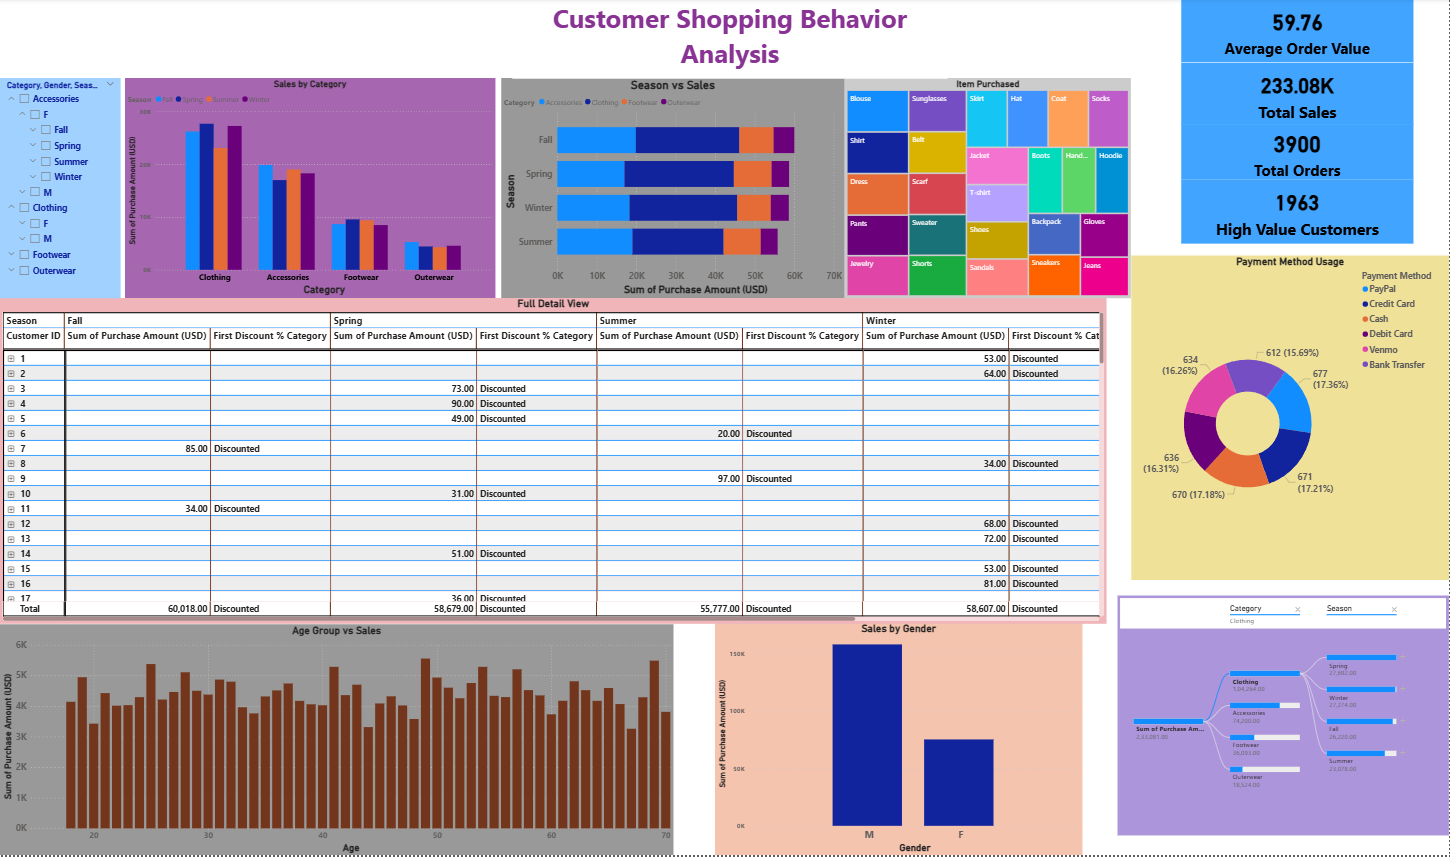

Layout of this report page (visuals, bound fields, positions):
{"tool":"powerbi","page":{"name":"Page 1","canvas":[2700,1600],"ordinal":0},"visuals":[{"type":"card","fields":{"Values":["shopping_behavior_updated.Total Sales"]},"box":[2202.5,120,432.5,115],"z":0},{"type":"card","fields":{"Values":["shopping_behavior_updated.Total Orders"]},"box":[2202.5,235,432.5,102.5],"z":1000},{"type":"card","fields":{"Values":["shopping_behavior_updated.Average Order Value"]},"box":[2202.5,0,432.5,120],"z":2000},{"type":"card","fields":{"Values":["shopping_behavior_updated.High Value Customers"]},"box":[2202.5,337.5,432.5,120],"z":3000},{"type":"clusteredColumnChart","title":"Sales by Category","fields":{"Series":["shopping_behavior_updated.Season"],"Category":["shopping_behavior_updated.Category"],"Y":["Sum(shopping_behavior_updated.Purchase Amount (USD))"]},"box":[232.5,150,690,410],"z":4000},{"type":"treemap","title":"Item Purchased","fields":{"Values":["Sum(shopping_behavior_updated.Purchase Amount (USD))"],"Group":["shopping_behavior_updated.Item Purchased"]},"box":[1575,150,532.5,410],"z":5000},{"type":"clusteredColumnChart","title":"Sales by Gender","fields":{"Category":["shopping_behavior_updated.Gender"],"Y":["Sum(shopping_behavior_updated.Purchase Amount (USD))"]},"box":[1332.5,1165,685,435],"z":6000},{"type":"clusteredColumnChart","title":"Age Group vs Sales","fields":{"Y":["Sum(shopping_behavior_updated.Purchase Amount (USD))"],"Category":["shopping_behavior_updated.Age"]},"box":[0,1167.5,1255,432.5],"z":7000},{"type":"barChart","title":"Season vs Sales","fields":{"Category":["shopping_behavior_updated.Season"],"Y":["Sum(shopping_behavior_updated.Purchase Amount (USD))"],"Series":["shopping_behavior_updated.Category"]},"box":[935,150,640,410],"z":8000},{"type":"pivotTable","title":"Full Detail View","fields":{"Rows":["shopping_behavior_updated.Customer ID","shopping_behavior_updated.Category","shopping_behavior_updated.Item Purchased"],"Columns":["shopping_behavior_updated.Season","shopping_behavior_updated.Payment Method"],"Values":["Sum(shopping_behavior_updated.Purchase Amount (USD))","Min(shopping_behavior_updated.Discount % Category)"]},"box":[0,560,2062.5,607.5],"z":9000},{"type":"donutChart","title":"Payment Method Usage","fields":{"Category":["shopping_behavior_updated.Payment Method"],"Y":["CountNonNull(shopping_behavior_updated.Customer ID)"]},"box":[2107.5,480,592.5,605],"z":10000},{"type":"decompositionTreeVisual","fields":{"Analyze":["Sum(shopping_behavior_updated.Purchase Amount (USD))"],"ExplainBy":["shopping_behavior_updated.Category","shopping_behavior_updated.Season","shopping_behavior_updated.Location","shopping_behavior_updated.Discount Applied","shopping_behavior_updated.Subscription Status","shopping_behavior_updated.Gender"]},"box":[2082.5,1112.5,617.5,447.5],"z":11000},{"type":"slicer","fields":{"Values":["shopping_behavior_updated.Category","shopping_behavior_updated.Gender","shopping_behavior_updated.Season","shopping_behavior_updated.Location","shopping_behavior_updated.Age","shopping_behavior_updated.Customer Type","shopping_behavior_updated.Subscription Status","shopping_behavior_updated.Payment Method"]},"box":[0,150,225,410],"z":12000},{"type":"textbox","box":[955,0,810,150],"z":13000}]}

Visuals, with their boxes in screenshot pixels (x1, y1, x2, y2), scaled from the page's 2700x1600 canvas onto the 1450x857 screenshot:
card - shopping_behavior_updated.Total Sales: l=1183, t=64, r=1415, b=126
card - shopping_behavior_updated.Total Orders: l=1183, t=126, r=1415, b=181
card - shopping_behavior_updated.Average Order Value: l=1183, t=0, r=1415, b=64
card - shopping_behavior_updated.High Value Customers: l=1183, t=181, r=1415, b=245
"Sales by Category" clusteredColumnChart: l=125, t=80, r=495, b=300
"Item Purchased" treemap: l=846, t=80, r=1132, b=300
"Sales by Gender" clusteredColumnChart: l=716, t=624, r=1083, b=856
"Age Group vs Sales" clusteredColumnChart: l=0, t=625, r=674, b=856
"Season vs Sales" barChart: l=502, t=80, r=846, b=300
"Full Detail View" pivotTable: l=0, t=300, r=1108, b=625
"Payment Method Usage" donutChart: l=1132, t=257, r=1449, b=581
decompositionTreeVisual - Sum(shopping_behavior_updated.Purchase Amount (USD)) x shopping_behavior_updated.Category: l=1118, t=596, r=1449, b=836
slicer - shopping_behavior_updated.Category x shopping_behavior_updated.Gender: l=0, t=80, r=121, b=300
textbox: l=513, t=0, r=948, b=80
